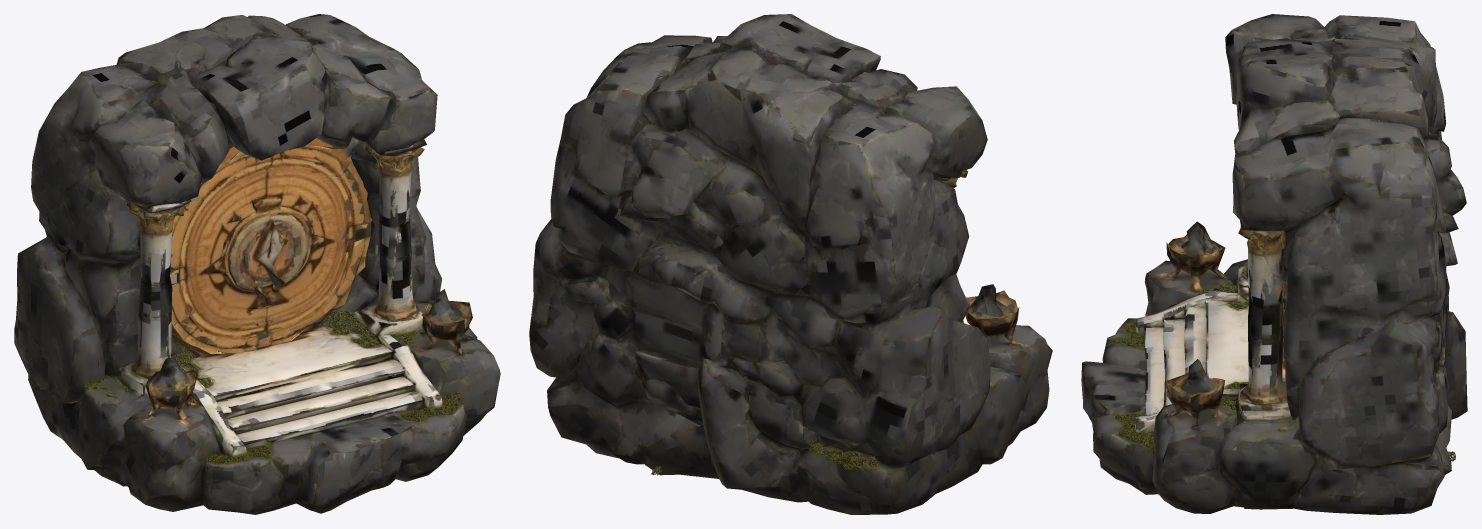
The model's file is landmark_vault.glb.
3 renders of one model, left to right at view 1: azimuth 30°, elevation 25°; view 2: azimuth 150°, elevation 25°; view 3: azimuth 270°, elevation 25°, orthographic. The views are drawn at different scales.
Visible parts, largest first — view 1: geometry_0; view 2: geometry_0; view 3: geometry_0.
Part boxes in pixels (x1=…): geometry_0: x1=14, y1=14, x2=500, y2=514; geometry_0: x1=529, y1=14, x2=1052, y2=514; geometry_0: x1=1081, y1=14, x2=1467, y2=514.
Bounding box in the file's own units: 10.3 × 10 × 8.92.
Materials: 1 (1 with a texture image).
